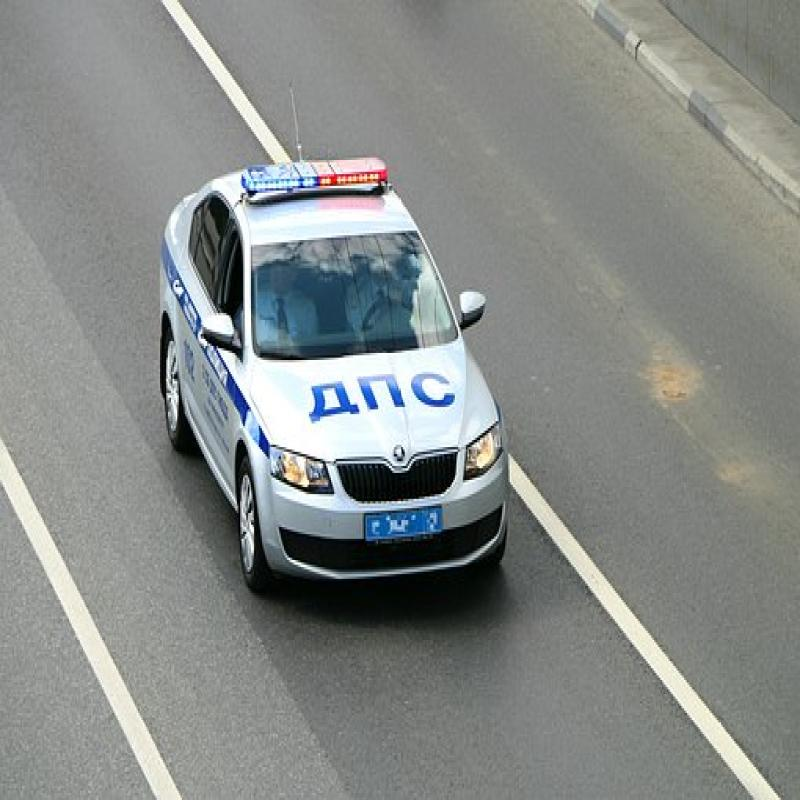AmbulanceSiren: (234, 137, 395, 210)
